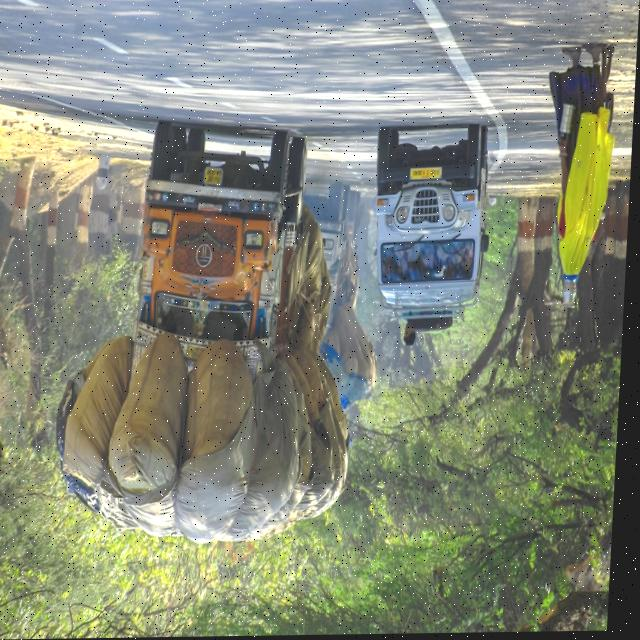plate: (412, 168, 444, 182), (206, 168, 225, 187)
